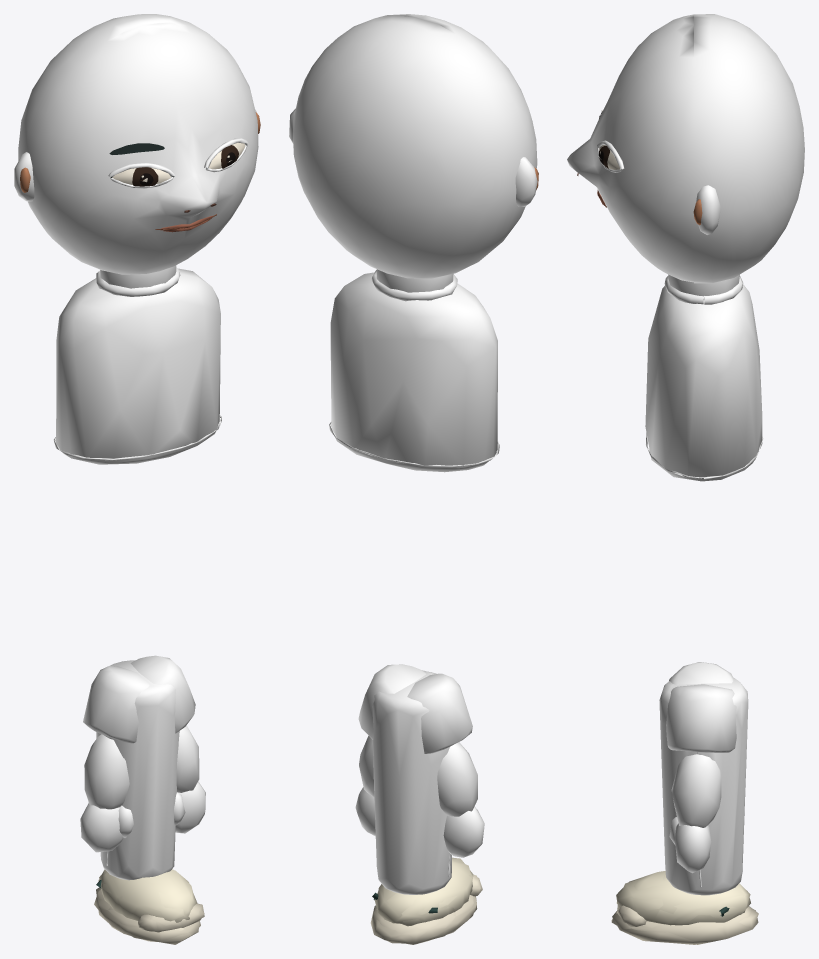
Rendered from base-male.glb.
3 views of the same model, side by side, from view 1: azimuth 30°, elevation 25°; view 2: azimuth 150°, elevation 25°; view 3: azimuth 270°, elevation 25° (orthographic).
Parts seen in each view (by area): view 1: head__skin, body__shirt, leftLeg__trousers, leftForearm__skin, rightLeg__trousers, leftUpperArm__shirt, rightLeg__fixed, leftLeg__fixed, rightForearm__skin, head__fixed, rightUpperArm__shirt; view 2: head__skin, body__shirt, leftLeg__trousers, rightLeg__trousers, leftForearm__skin, rightLeg__fixed, leftUpperArm__shirt, leftLeg__fixed, rightUpperArm__shirt, rightForearm__skin; view 3: head__skin, body__shirt, leftLeg__trousers, rightForearm__skin, rightUpperArm__shirt, leftLeg__fixed, rightLeg__fixed, rightLeg__trousers, leftUpperArm__shirt, head__fixed.
Boxes of the visible parts, box(x1,y1,x2,y2) form: head__skin: box(14, 14, 258, 288); body__shirt: box(54, 267, 221, 464); leftLeg__trousers: box(96, 660, 179, 880); leftForearm__skin: box(80, 734, 133, 852); rightLeg__trousers: box(97, 662, 179, 879); leftUpperArm__shirt: box(83, 666, 149, 743); rightLeg__fixed: box(94, 872, 204, 942); leftLeg__fixed: box(96, 869, 204, 944); rightForearm__skin: box(174, 725, 205, 833); head__fixed: box(20, 112, 260, 232); rightUpperArm__shirt: box(130, 655, 195, 733); head__skin: box(289, 14, 537, 292); body__shirt: box(329, 270, 499, 472); leftLeg__trousers: box(372, 670, 451, 894); rightLeg__trousers: box(372, 674, 451, 894); leftForearm__skin: box(437, 742, 484, 857); rightLeg__fixed: box(370, 859, 480, 944); leftUpperArm__shirt: box(407, 673, 472, 753); leftLeg__fixed: box(371, 857, 482, 943); rightUpperArm__shirt: box(358, 664, 426, 739); rightForearm__skin: box(355, 735, 375, 836); head__skin: box(567, 14, 804, 299); body__shirt: box(645, 276, 763, 481); leftLeg__trousers: box(659, 677, 748, 895); rightForearm__skin: box(669, 754, 721, 873); rightUpperArm__shirt: box(666, 684, 736, 752); leftLeg__fixed: box(612, 873, 758, 944); rightLeg__fixed: box(611, 871, 758, 944); rightLeg__trousers: box(662, 681, 748, 895); leftUpperArm__shirt: box(669, 662, 733, 684); head__fixed: box(577, 110, 702, 225).
Size of the model in its own units: 0.8503 by 3.02 by 0.7154.
